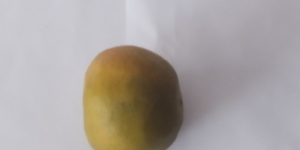BAD: (78, 43, 185, 150)
